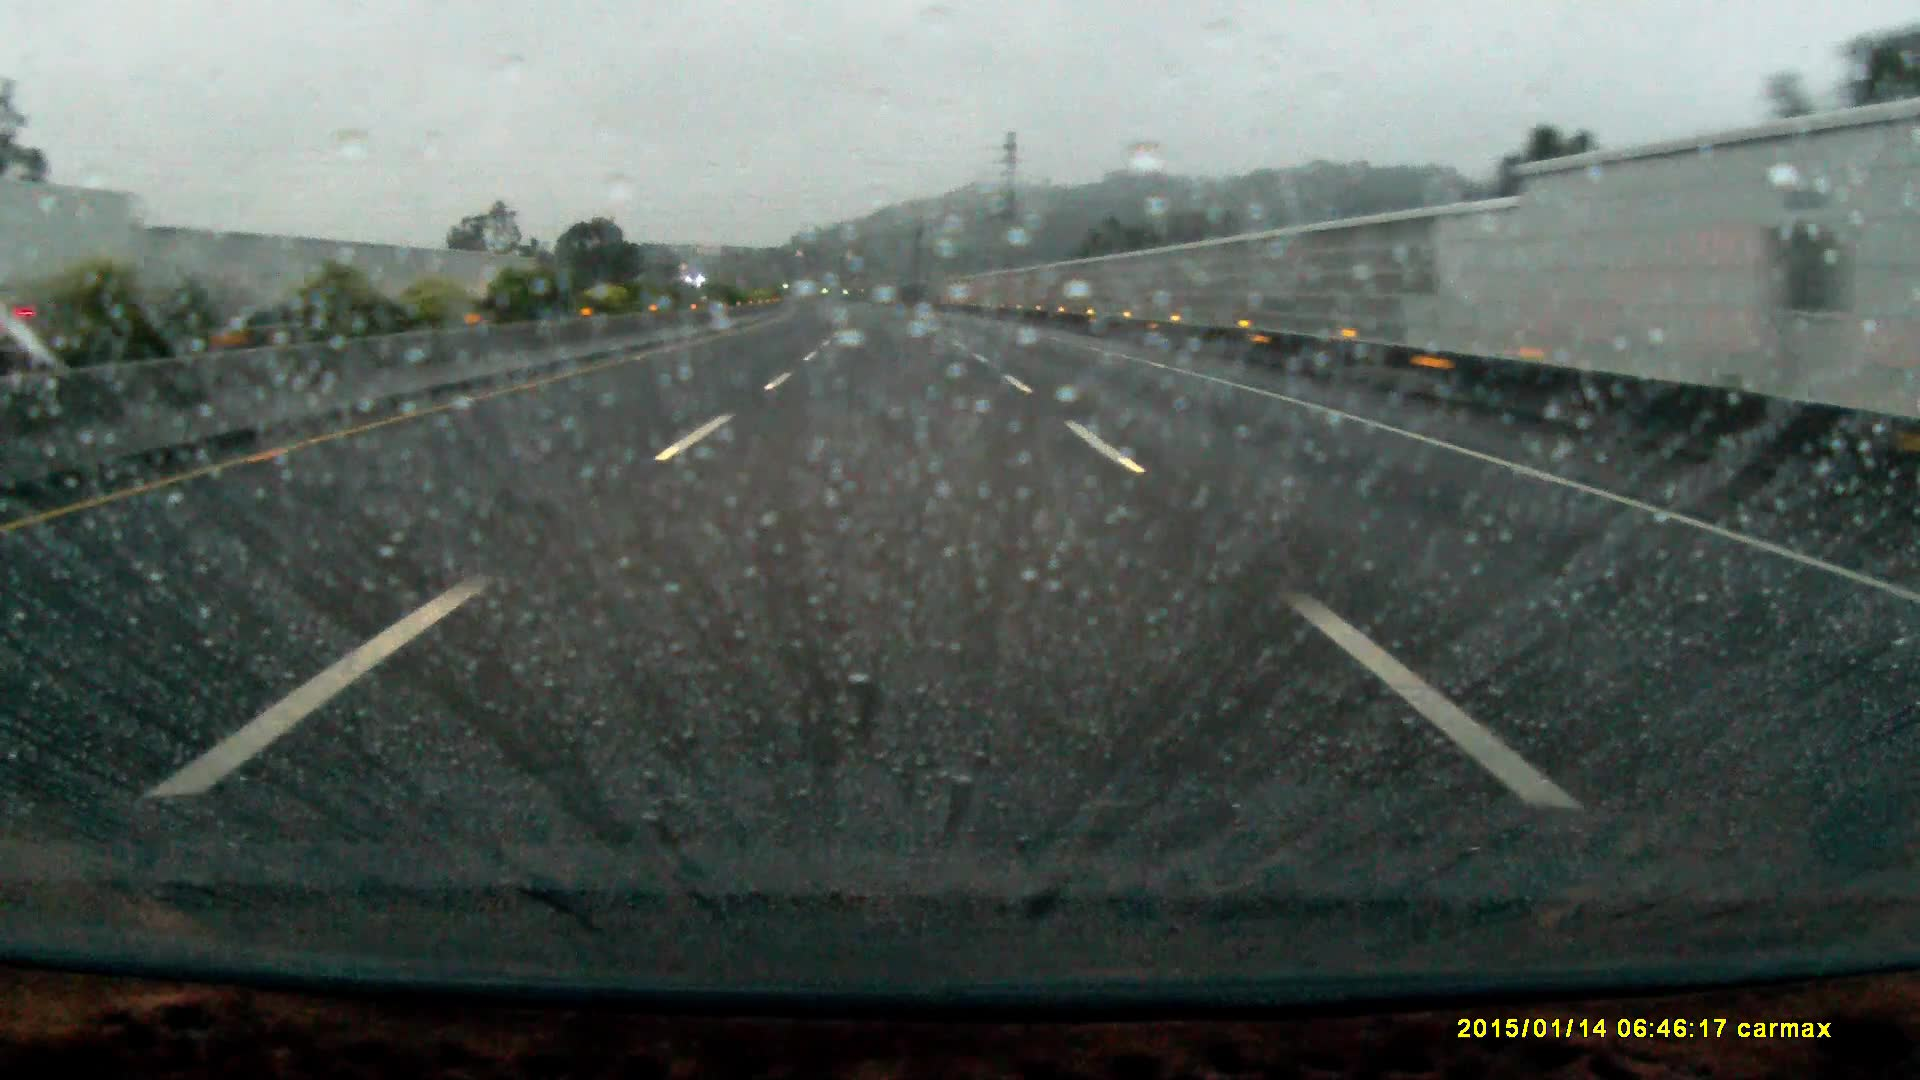vehicle: (1, 181, 150, 353)
